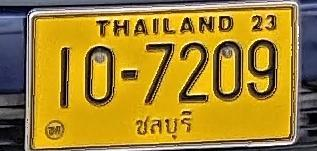0: (84, 45, 114, 106), (213, 40, 242, 101)
1: (60, 48, 69, 108)
2: (178, 42, 208, 103)
7: (144, 42, 174, 105)
9: (247, 39, 278, 99)
CBI: (132, 110, 194, 140)
